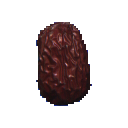gd: (17, 8, 115, 122)
